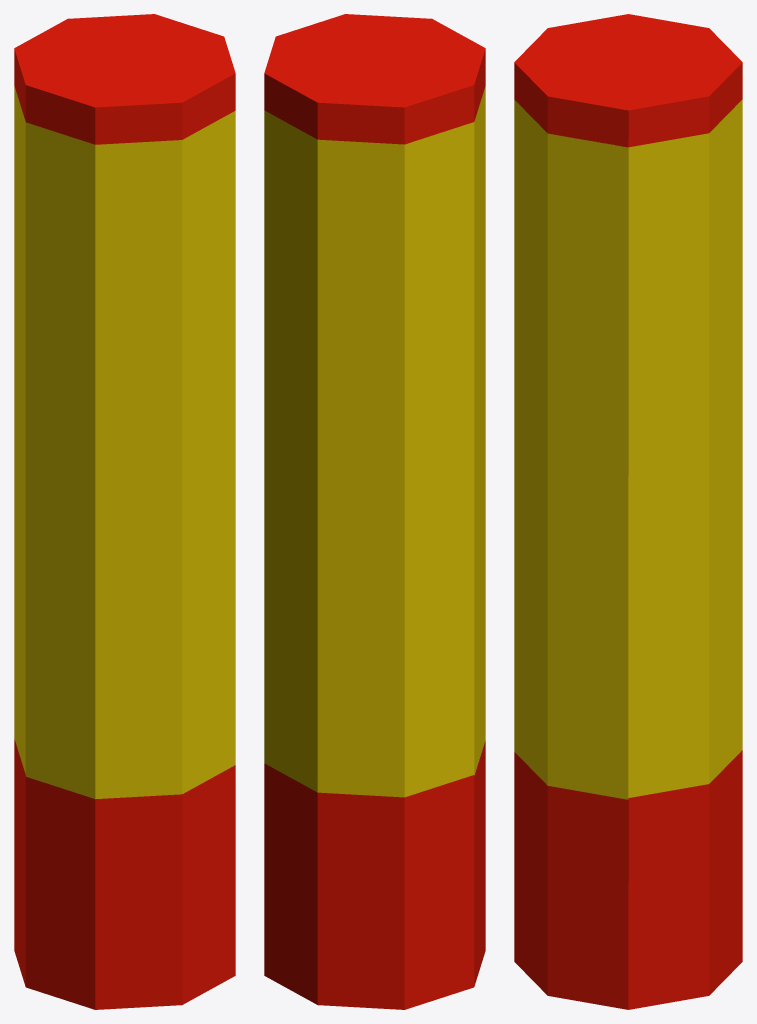
Rendered from ConfetiGun.fbx.
The picture shows the model from 3 angles, left to right: view 1: azimuth 30°, elevation 25°; view 2: azimuth 150°, elevation 25°; view 3: azimuth 270°, elevation 25°; orthographic projection.
Visible parts, largest first — view 1: Cylinder, Cylinder.001, Cylinder.002; view 2: Cylinder, Cylinder.001, Cylinder.002; view 3: Cylinder, Cylinder.001, Cylinder.002.
Boxes of the visible parts, x1,y1,x2,y2 form: Cylinder: (14,86,235,799); Cylinder.001: (14,739,235,1009); Cylinder.002: (14,14,235,144); Cylinder: (264,86,485,797); Cylinder.001: (264,741,485,1009); Cylinder.002: (264,14,485,144); Cylinder: (514,99,742,799); Cylinder.001: (514,750,742,1009); Cylinder.002: (514,14,742,147).
Bounding box in the file's own units: 200 × 869 × 200.
